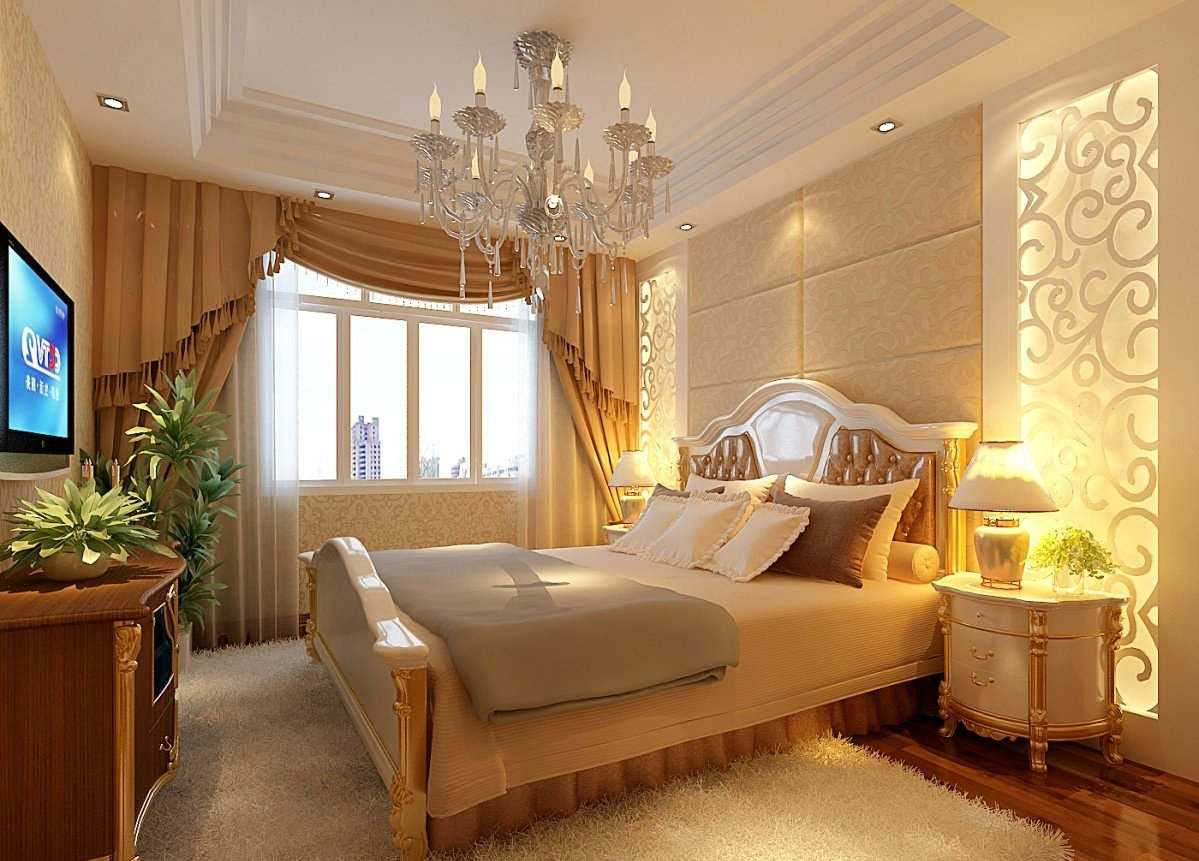床: (306, 530, 923, 809)
枕头: (602, 471, 881, 584)
灯: (410, 29, 675, 311), (950, 433, 1050, 594), (94, 93, 131, 119), (860, 120, 896, 139), (308, 190, 333, 207)
